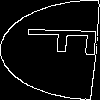F: (25, 25, 100, 58)
